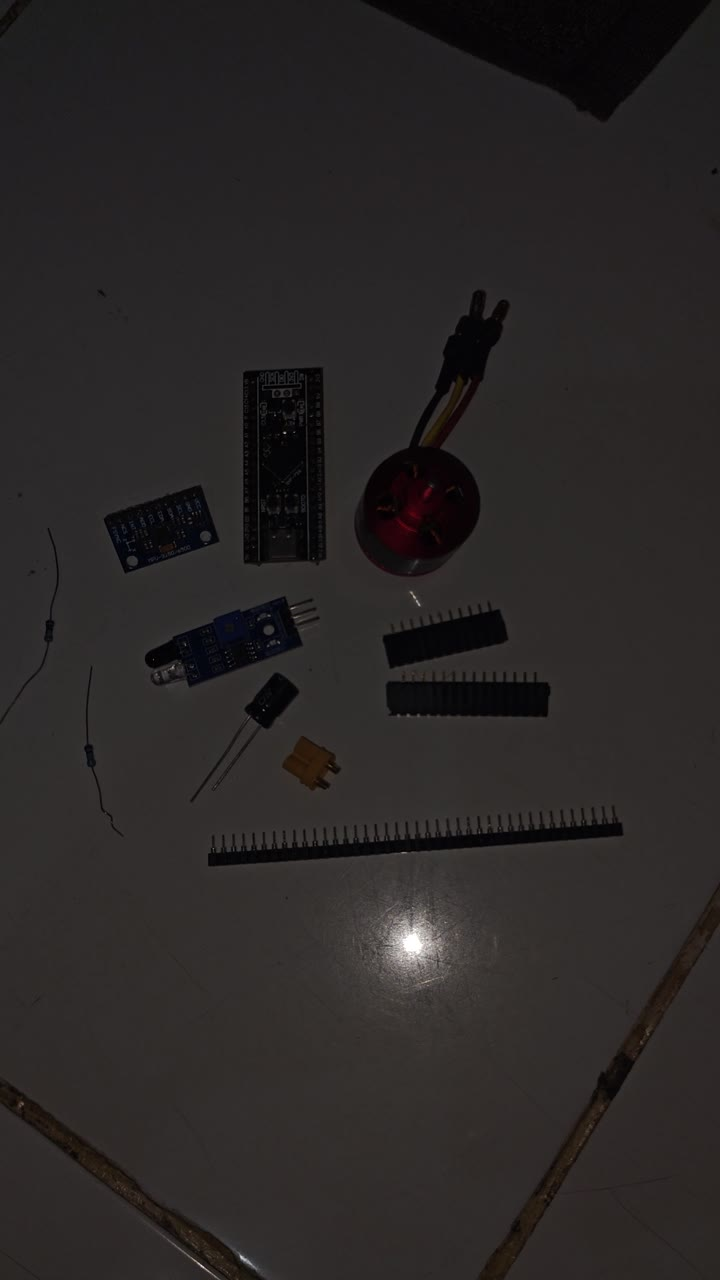bldc_motor: (369, 279, 513, 585)
elco_capacitor: (242, 670, 301, 730)
ir_sensor: (163, 593, 307, 690)
mpu6500: (120, 481, 223, 573)
pin_header: (209, 807, 640, 864), (406, 594, 562, 669), (389, 669, 556, 718)
resistor: (21, 506, 107, 730), (63, 651, 118, 845)
stm32f4: (241, 358, 328, 574)
xt30_female: (281, 733, 343, 793)
